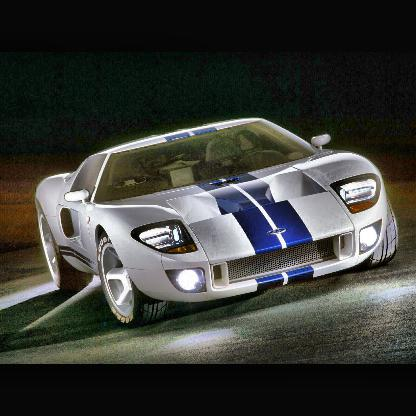Ford GT Coupe 2006: (37, 117, 399, 334)
